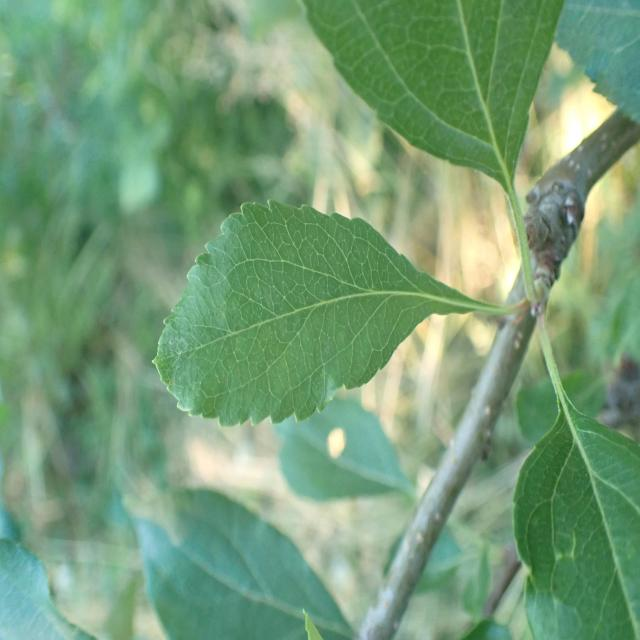healthy: (153, 200, 470, 429), (300, 0, 565, 183), (126, 485, 355, 640), (512, 404, 640, 640), (552, 0, 640, 123), (0, 536, 98, 640)
